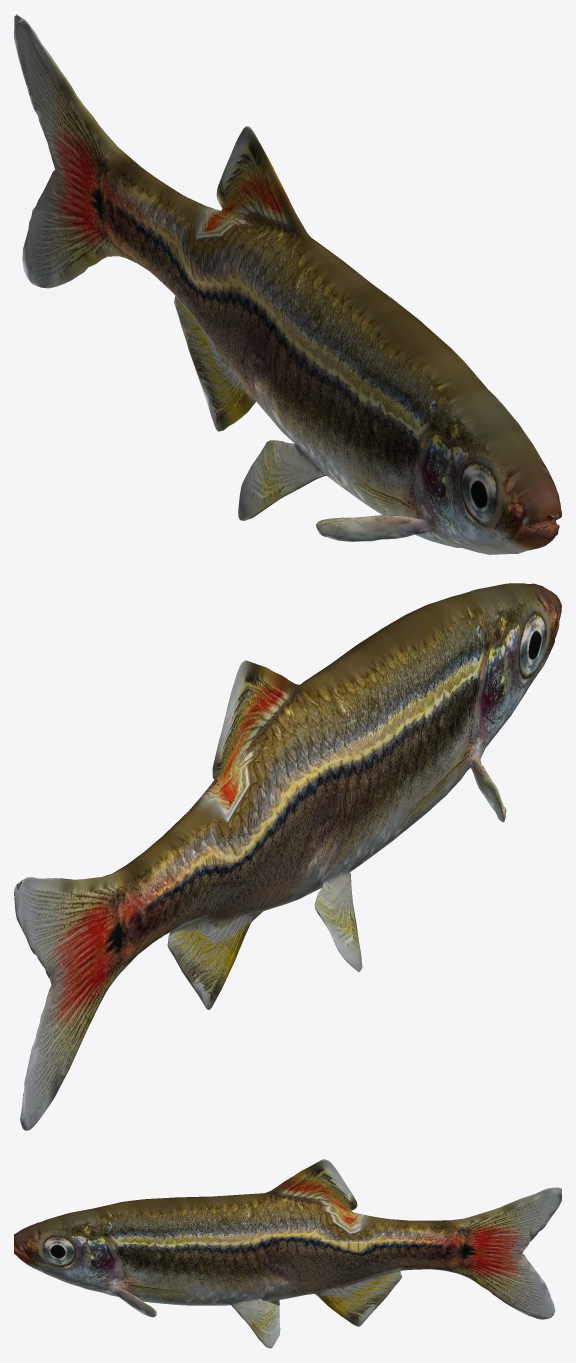
Rendered from tanichthys.glb.
3 views of the same model, one above another, from view 1: azimuth 30°, elevation 25°; view 2: azimuth 150°, elevation 25°; view 3: azimuth 270°, elevation 25° (orthographic). The views are drawn at different scales.
Visible parts, largest first — view 1: tanichthys_tex; view 2: tanichthys_tex; view 3: tanichthys_tex.
Boxes of the visible parts, bbox=[...] form: tanichthys_tex: bbox=[14, 14, 561, 554]; tanichthys_tex: bbox=[14, 583, 561, 1130]; tanichthys_tex: bbox=[14, 1159, 561, 1348].
Size of the model in its own units: 0.00907 by 0.0146 by 0.042.
Materials: 2 (2 with a texture image).
